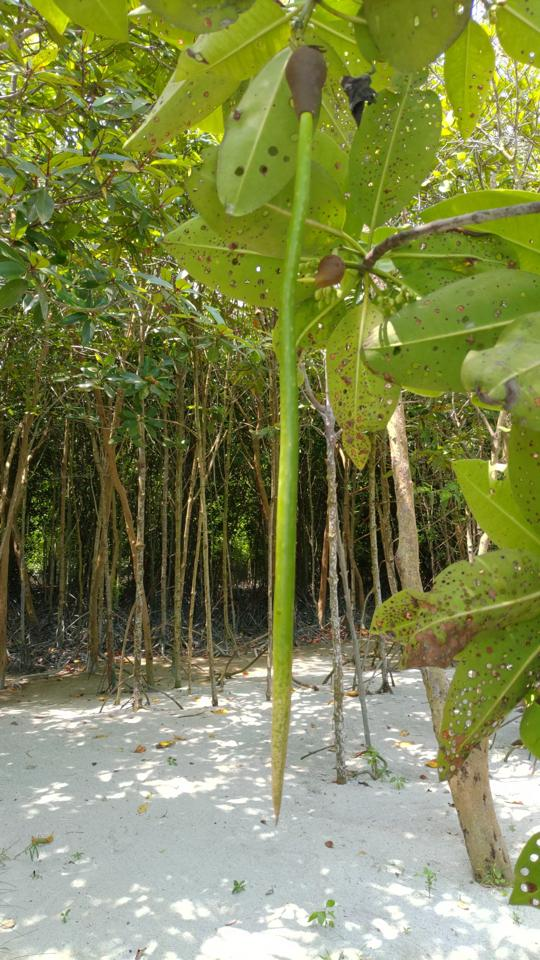mentah: (245, 30, 338, 838)
